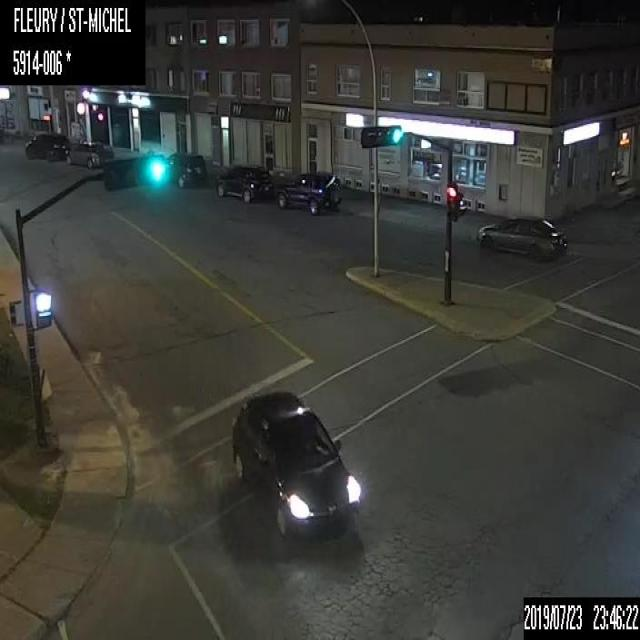vehicle: (230, 388, 362, 535), (476, 214, 567, 258), (274, 170, 340, 213), (215, 165, 274, 201), (166, 151, 206, 188), (64, 140, 112, 167), (24, 130, 70, 158)
